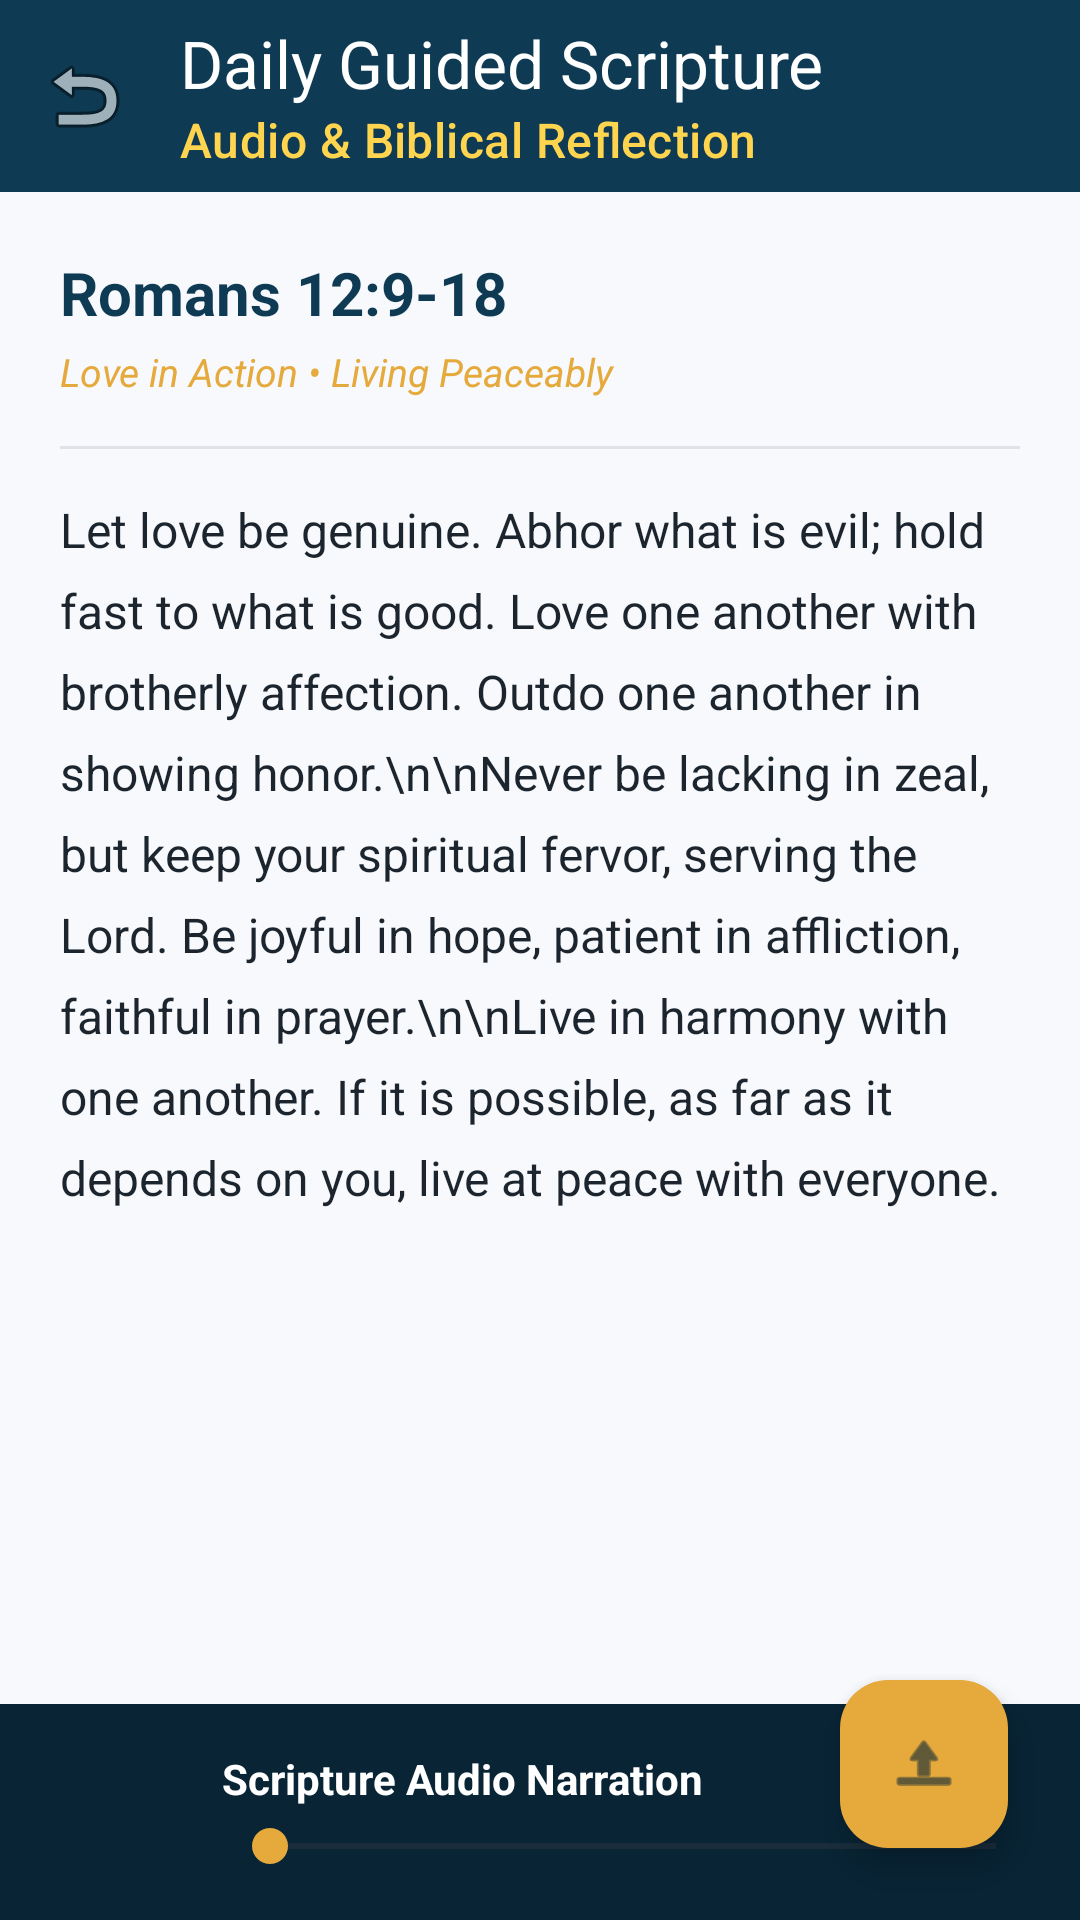

Icons on this 1080px×1920px Android screen, each with the point to tap as point (x, y):
upload: point (924, 1764)
